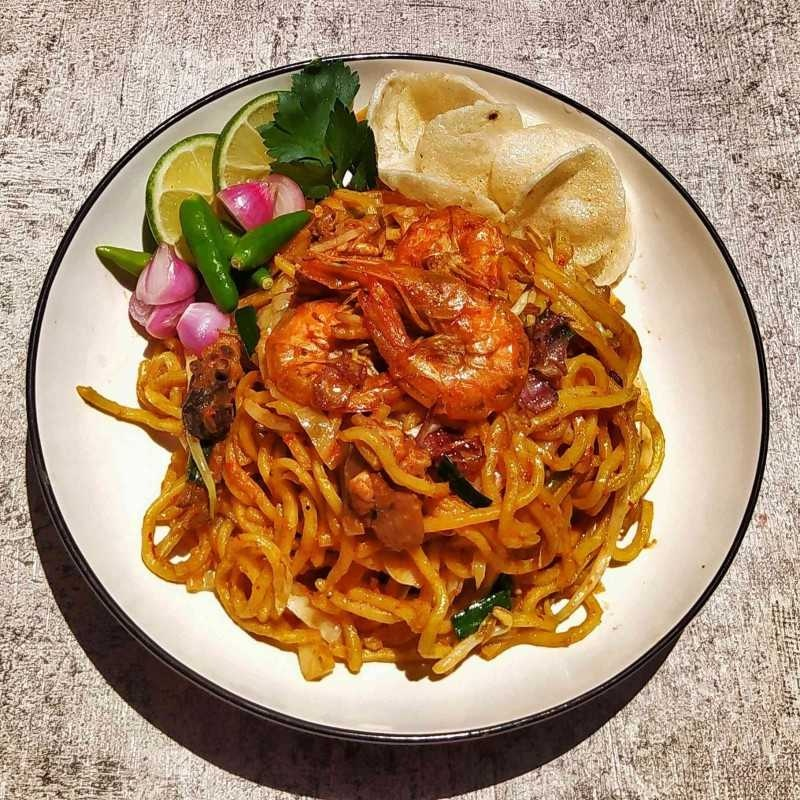mie_aceh: (140, 234, 662, 681)
